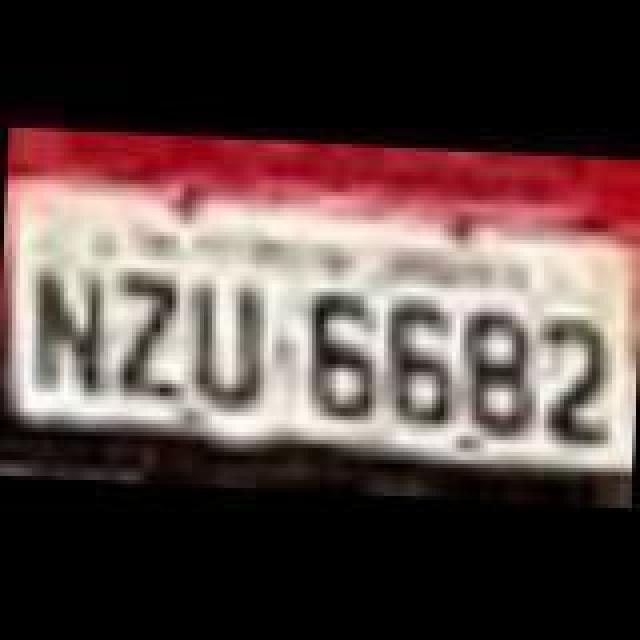2: (532, 314, 620, 454)
6: (380, 298, 468, 438), (302, 290, 386, 430)
8: (464, 304, 544, 440)
N: (28, 264, 116, 400)
U: (182, 276, 274, 412)
Z: (110, 268, 194, 404)
